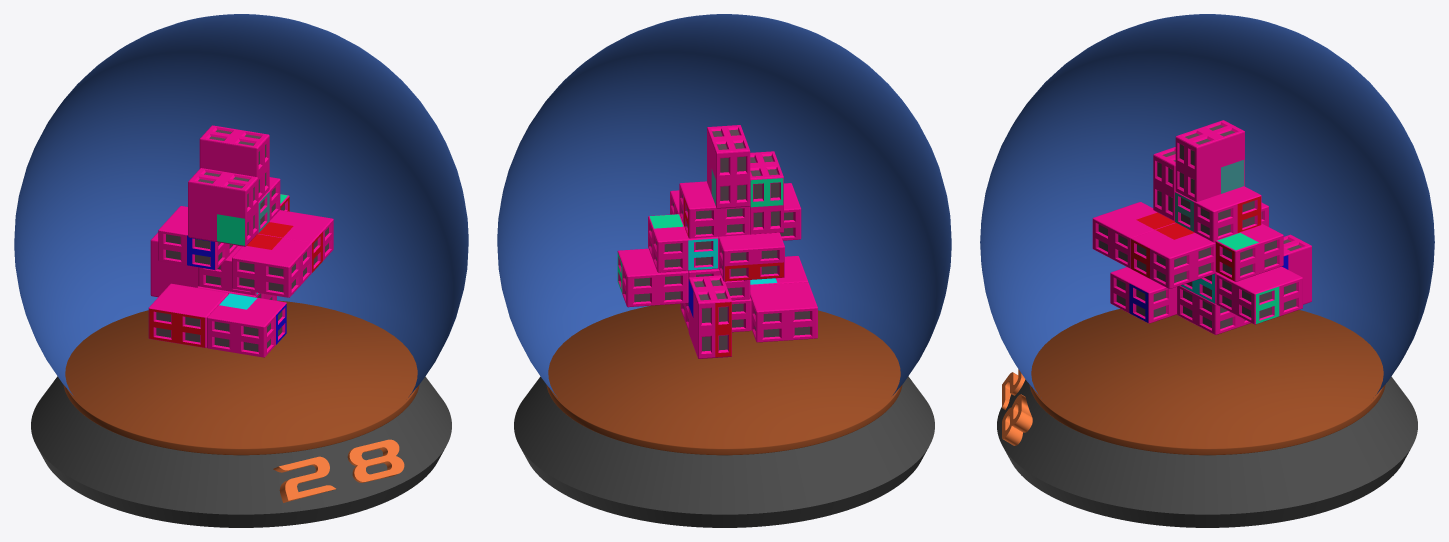
The model's file is Curio_28.glb.
3 views of the same model, side by side, from view 1: azimuth 30°, elevation 25°; view 2: azimuth 150°, elevation 25°; view 3: azimuth 270°, elevation 25° (orthographic).
Visible parts, largest first — view 1: Sphere.092, Sphere.091, Sphere.090, Cylinder.042, Text.035; view 2: Sphere.092, Sphere.091, Sphere.090, Cylinder.042; view 3: Sphere.092, Sphere.091, Sphere.090, Cylinder.042, Text.035.
Boxes of the visible parts, box(x1,y1,x2,y2) form: Sphere.092: box(14, 14, 468, 397); Sphere.091: box(63, 300, 419, 455); Sphere.090: box(31, 376, 451, 527); Cylinder.042: box(148, 125, 333, 357); Text.035: box(273, 439, 404, 502); Sphere.092: box(497, 14, 951, 397); Sphere.091: box(546, 303, 902, 455); Sphere.090: box(514, 376, 934, 527); Cylinder.042: box(617, 125, 817, 358); Sphere.092: box(980, 14, 1434, 395); Sphere.091: box(1029, 308, 1385, 455); Sphere.090: box(997, 376, 1417, 527); Cylinder.042: box(1092, 120, 1311, 334); Text.035: box(1002, 369, 1032, 445).
Bounding box in the file's own units: 4.66 × 4.62 × 4.66.
